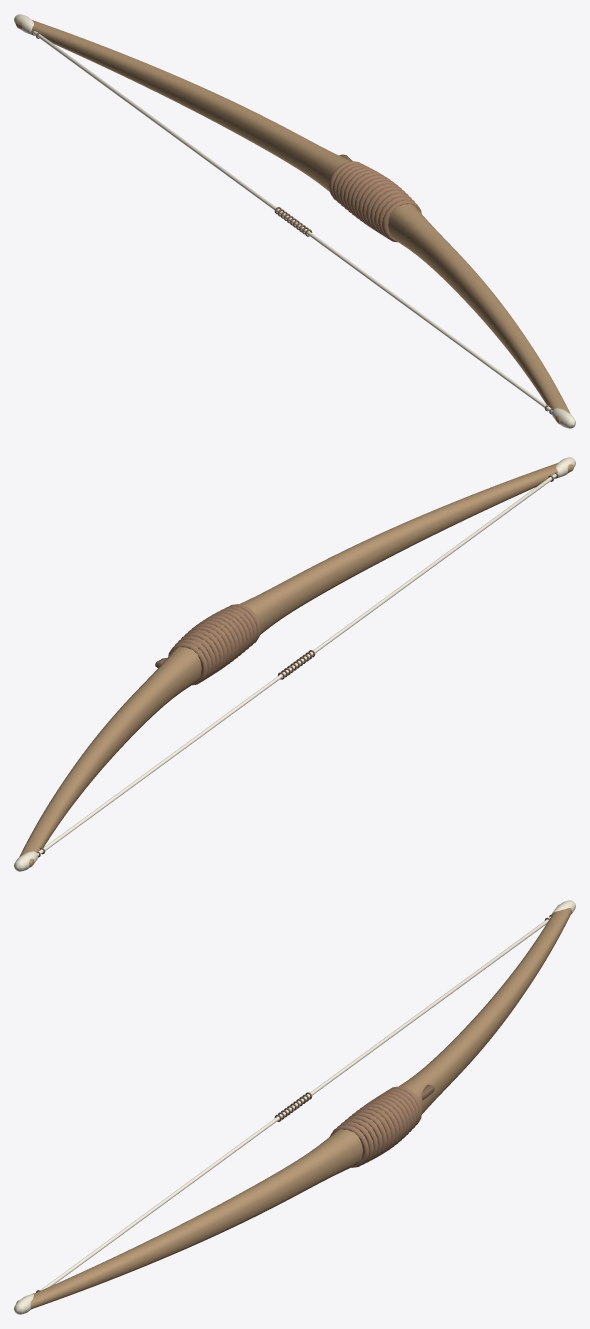
The model's file is th31_bogen.glb.
3 renders of one model, top to bottom at view 1: azimuth 30°, elevation 25°; view 2: azimuth 150°, elevation 25°; view 3: azimuth 330°, elevation 25°, orthographic.
Visible parts, largest first — view 1: Wurfarm, Cylinder; view 2: Wurfarm, Cylinder; view 3: Wurfarm, Cylinder.
Boxes of the visible parts, x1,y1,x2,y2 form: Wurfarm: (16, 20, 570, 424); Cylinder: (31, 30, 552, 412); Wurfarm: (19, 463, 573, 867); Cylinder: (37, 473, 558, 855); Wurfarm: (16, 904, 571, 1309); Cylinder: (40, 916, 551, 1290).
Size of the model in its own units: 0.201 by 0.0782 by 1.73.
